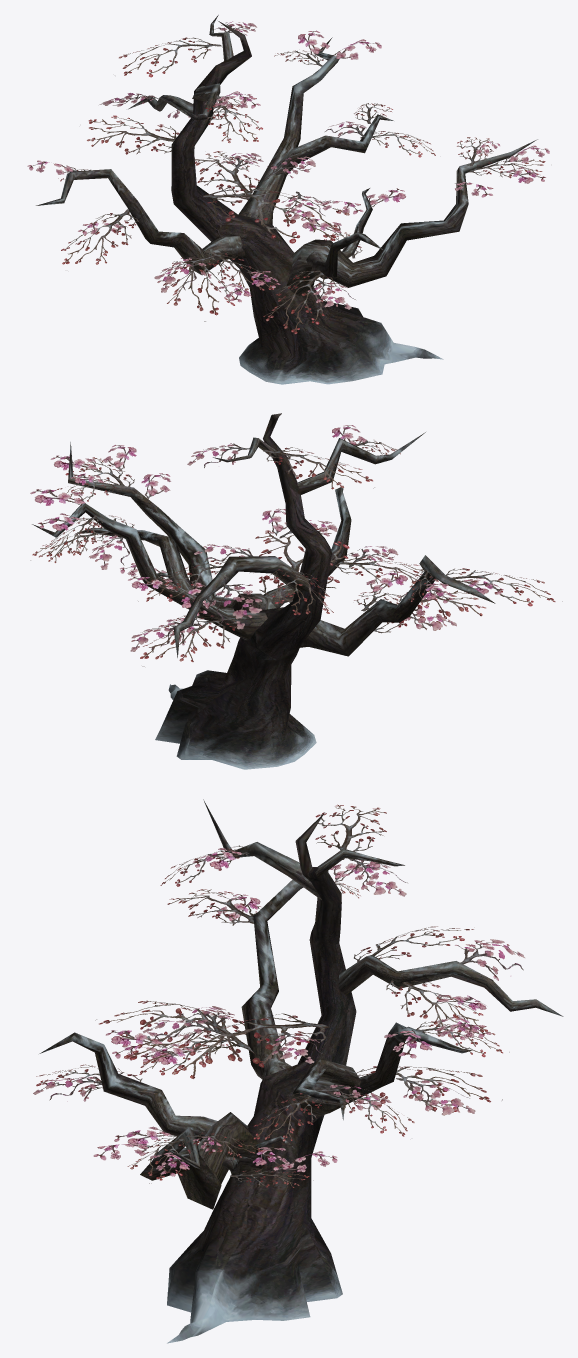
File: environment_Tree_xuemei01_A.FBX
The picture shows the model from 3 angles, top to bottom: view 1: azimuth 30°, elevation 25°; view 2: azimuth 150°, elevation 25°; view 3: azimuth 270°, elevation 25°; orthographic projection. The views are drawn at different scales.
Parts seen in each view (by area): view 1: environment_Tree_xuemei_01, environment_Tree_xuemei_02, environment_Tree_xuemei_03; view 2: environment_Tree_xuemei_01, environment_Tree_xuemei_03, environment_Tree_xuemei_02; view 3: environment_Tree_xuemei_01, environment_Tree_xuemei_03, environment_Tree_xuemei_02.
Part boxes in pixels (<box>): environment_Tree_xuemei_01: <box>171,21,443,384</box>; environment_Tree_xuemei_02: <box>27,21,549,338</box>; environment_Tree_xuemei_03: <box>36,15,537,295</box>; environment_Tree_xuemei_01: <box>155,413,331,769</box>; environment_Tree_xuemei_03: <box>32,432,495,657</box>; environment_Tree_xuemei_02: <box>30,425,562,666</box>; environment_Tree_xuemei_01: <box>167,812,356,1343</box>; environment_Tree_xuemei_03: <box>39,799,563,1209</box>; environment_Tree_xuemei_02: <box>33,804,524,1187</box>.
Size of the model in its own units: 737 by 552 by 474.
3 materials, 3 textured.
